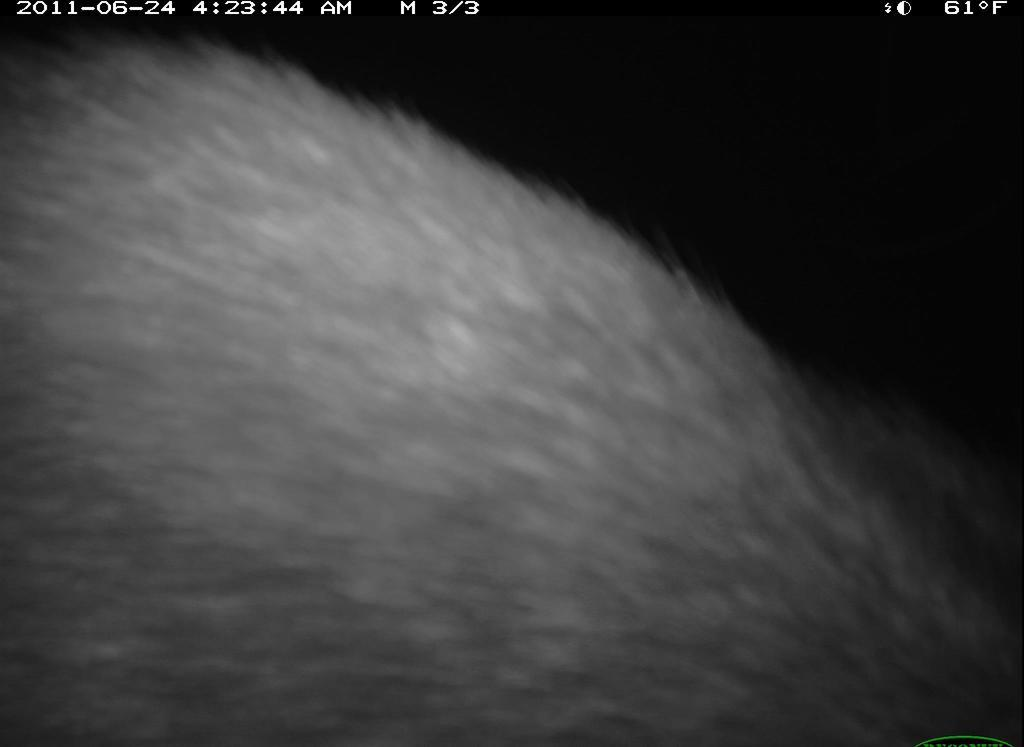raccoon: (4, 13, 1023, 747)
